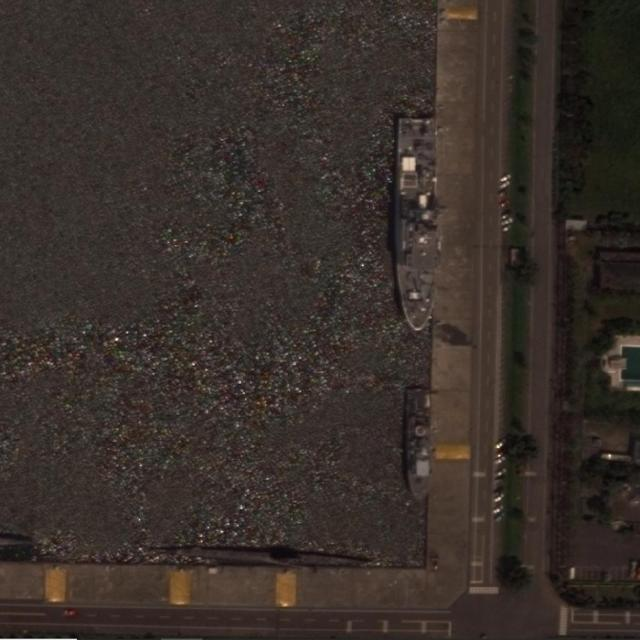Other Warship: (395, 120, 436, 330), (407, 388, 429, 500)
Submarine: (156, 542, 359, 570)
